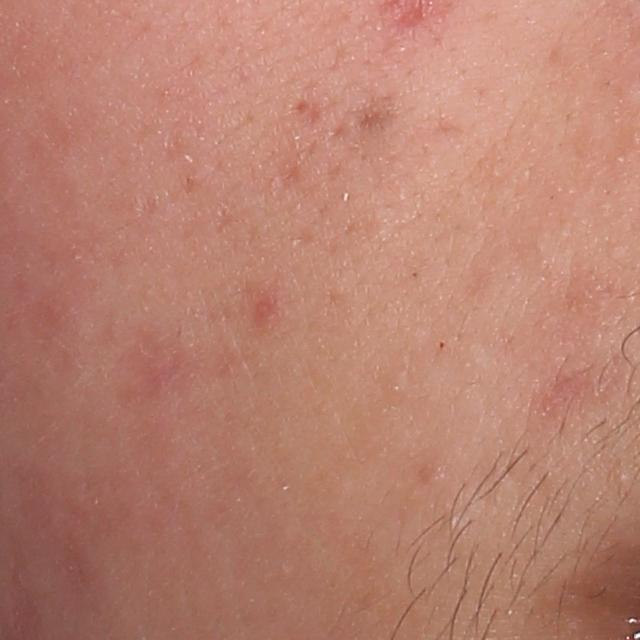comedo: (612, 466, 632, 485)
